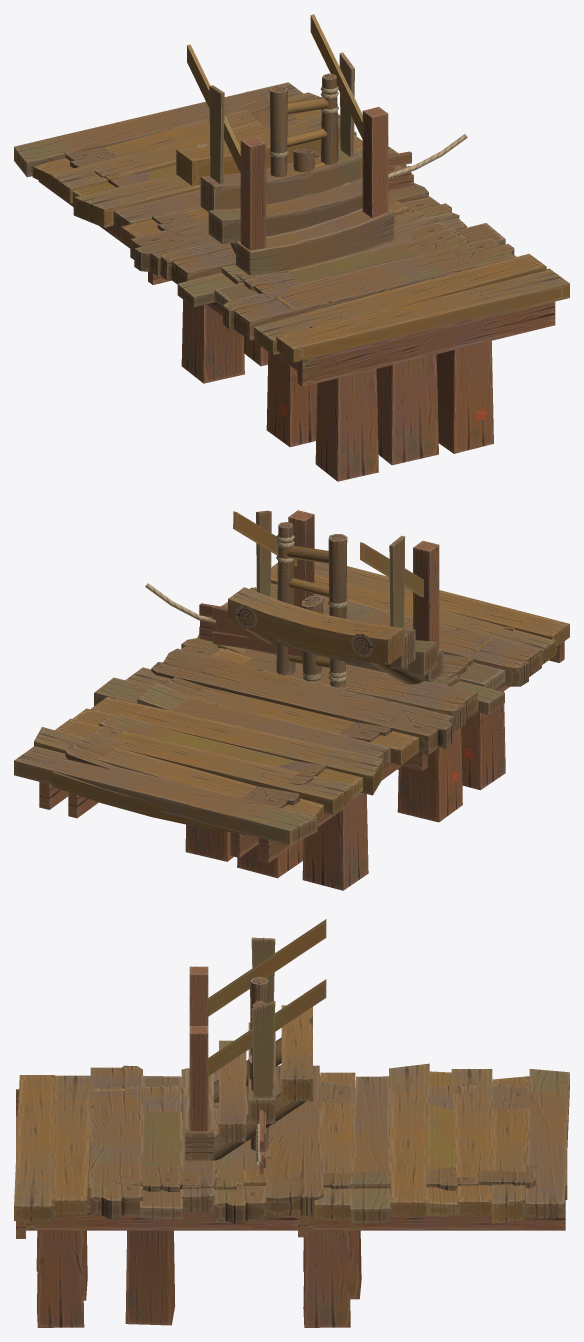
The model's file is Dock_A.fbx.
3 renders of one model, top to bottom at view 1: azimuth 30°, elevation 25°; view 2: azimuth 150°, elevation 25°; view 3: azimuth 270°, elevation 25°, orthographic. The views are drawn at different scales.
Parts seen in each view (by area): view 1: Dock_Bridge_C, Dock_Stair, Dock_Bridge_B, Dock_Stair_Parts, Dock_Bridge_A, Dock_Ladder; view 2: Dock_Bridge_C, Dock_Bridge_B, Dock_Stair, Dock_Bridge_A, Dock_Ladder, Dock_Stair_Parts, Fence_B_04, Dock_Pillar_B; view 3: Dock_Bridge_C, Dock_Bridge_B, Dock_Stair, Dock_Bridge_A, Dock_Stair_Parts, Dock_Ladder.
Part boxes in pixels (left/top/right/bottom): Dock_Bridge_C: left=14, top=82, right=569, bottom=465; Dock_Stair: left=176, top=14, right=394, bottom=275; Dock_Bridge_B: left=64, top=91, right=493, bottom=481; Dock_Stair_Parts: left=240, top=107, right=388, bottom=250; Dock_Bridge_A: left=152, top=210, right=458, bottom=447; Dock_Ladder: left=269, top=73, right=338, bottom=177; Dock_Bridge_C: left=14, top=562, right=569, bottom=878; Dock_Bridge_B: left=52, top=626, right=514, bottom=890; Dock_Stair: left=228, top=510, right=443, bottom=684; Dock_Bridge_A: left=161, top=644, right=462, bottom=822; Dock_Ladder: left=276, top=522, right=347, bottom=687; Dock_Stair_Parts: left=288, top=510, right=439, bottom=651; Fence_B_04: left=212, top=605, right=302, bottom=656; Dock_Pillar_B: left=302, top=651, right=321, bottom=681; Dock_Bridge_C: left=14, top=1063, right=569, bottom=1300; Dock_Bridge_B: left=36, top=1084, right=567, bottom=1327; Dock_Stair: left=185, top=919, right=326, bottom=1160; Dock_Bridge_A: left=125, top=1081, right=389, bottom=1325; Dock_Stair_Parts: left=189, top=966, right=208, bottom=1131; Dock_Ladder: left=250, top=976, right=269, bottom=1150.
Size of the model in its own units: 269 by 273 by 416.
